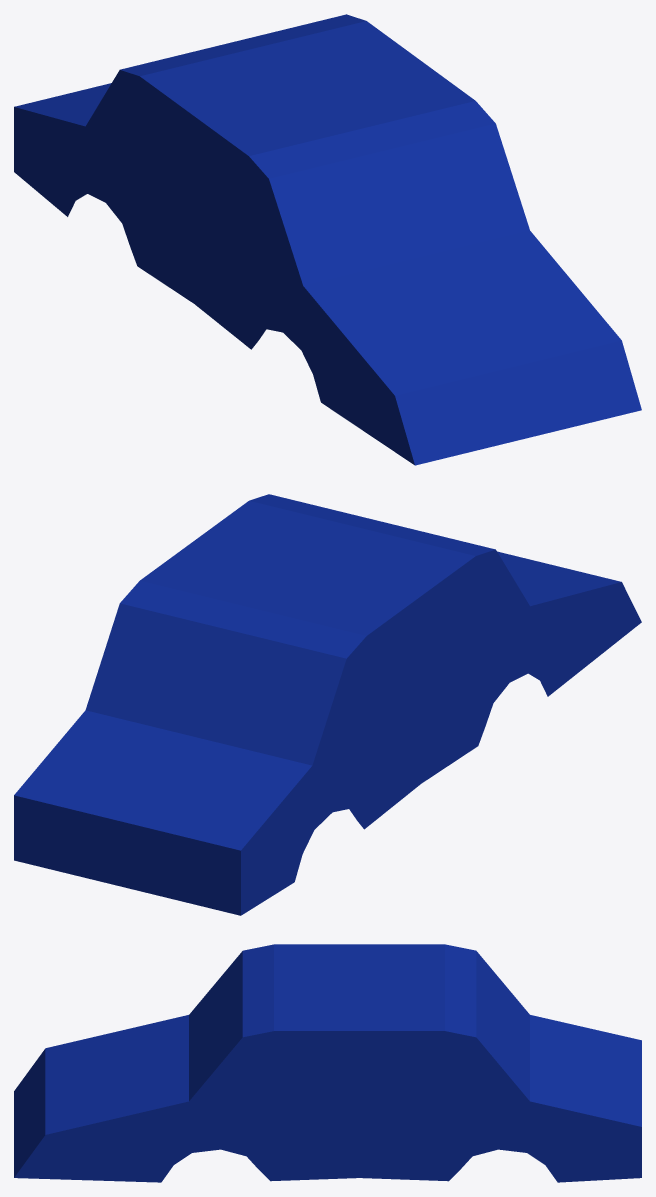
File: LOW_POLYCAR1.obj
3 renders of one model, top to bottom at view 1: azimuth 30°, elevation 25°; view 2: azimuth 150°, elevation 25°; view 3: azimuth 270°, elevation 25°, orthographic. The views are drawn at different scales.
Visible parts, largest first — view 1: Cube; view 2: Cube; view 3: Cube.
Boxes of the visible parts, <box> form: Cube: <box>14,14,641,465</box>; Cube: <box>14,494,641,915</box>; Cube: <box>14,944,641,1182</box>.
Size of the model in its own units: 0.8952 by 0.7298 by 2.74.
